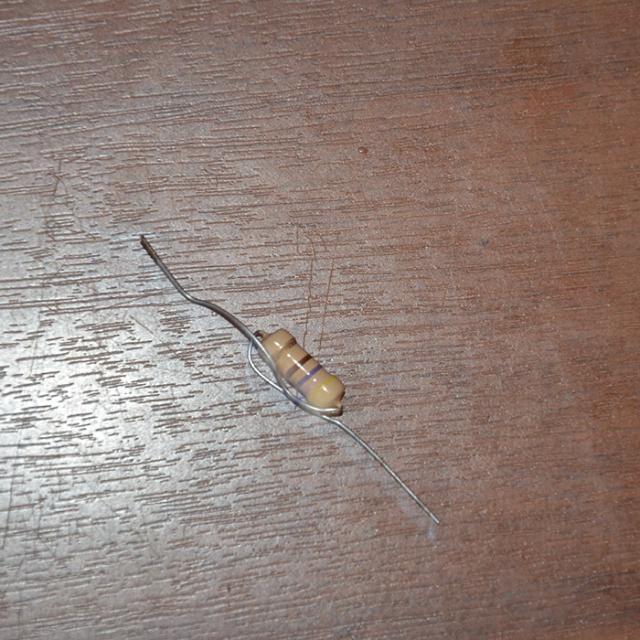brown: (285, 353, 312, 376)
gold: (272, 337, 296, 362)
resistor: (246, 314, 354, 426)
violet: (293, 364, 322, 386)
yellow: (309, 376, 335, 402)
